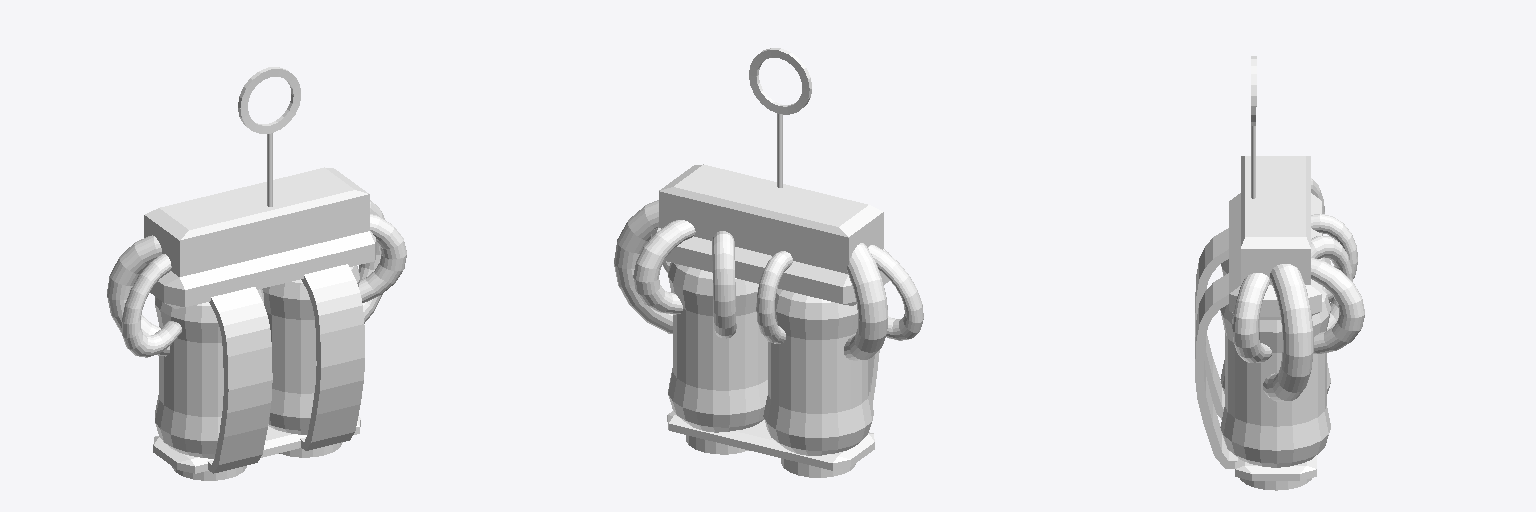
File: jetpack 1.obj
The picture shows the model from 3 angles: view 1: azimuth 30°, elevation 25°; view 2: azimuth 150°, elevation 25°; view 3: azimuth 270°, elevation 25°; orthographic projection.
Visible parts, largest first — view 1: Bubblebottle4_initialShadingGroup; view 2: Bubblebottle4_initialShadingGroup; view 3: Bubblebottle4_initialShadingGroup.
Boxes of the visible parts, x1,y1,x2,y2 form: Bubblebottle4_initialShadingGroup: [107, 67, 406, 480]; Bubblebottle4_initialShadingGroup: [614, 48, 923, 477]; Bubblebottle4_initialShadingGroup: [1195, 56, 1364, 490].
Size of the model in its own units: 6.48 by 8.53 by 3.35.